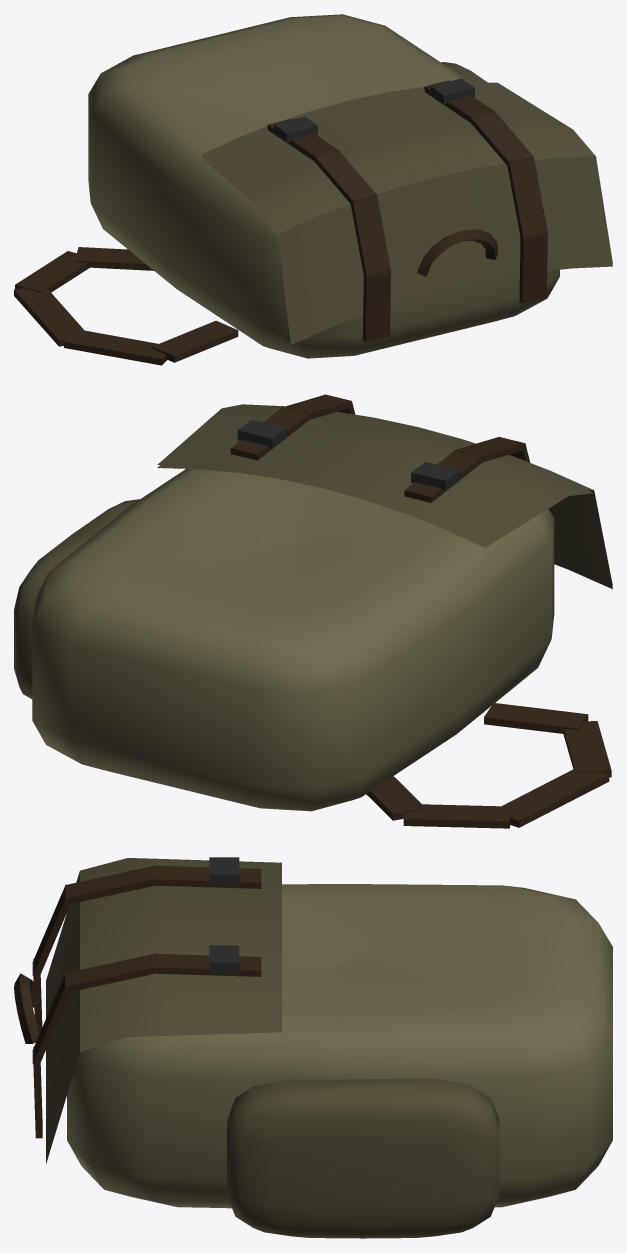
Rendered from pack.glb.
3 renders of one model, top to bottom at view 1: azimuth 30°, elevation 25°; view 2: azimuth 150°, elevation 25°; view 3: azimuth 270°, elevation 25°, orthographic. The views are drawn at different scales.
Parts seen in each view (by area): view 1: pack; view 2: pack; view 3: pack.
Boxes of the visible parts, left/top/right/bottom form: pack: left=14, top=14, right=612, bottom=365; pack: left=14, top=394, right=612, bottom=828; pack: left=14, top=857, right=612, bottom=1238.
Bounding box in the file's own units: 0.541 × 0.227 × 0.5177.
